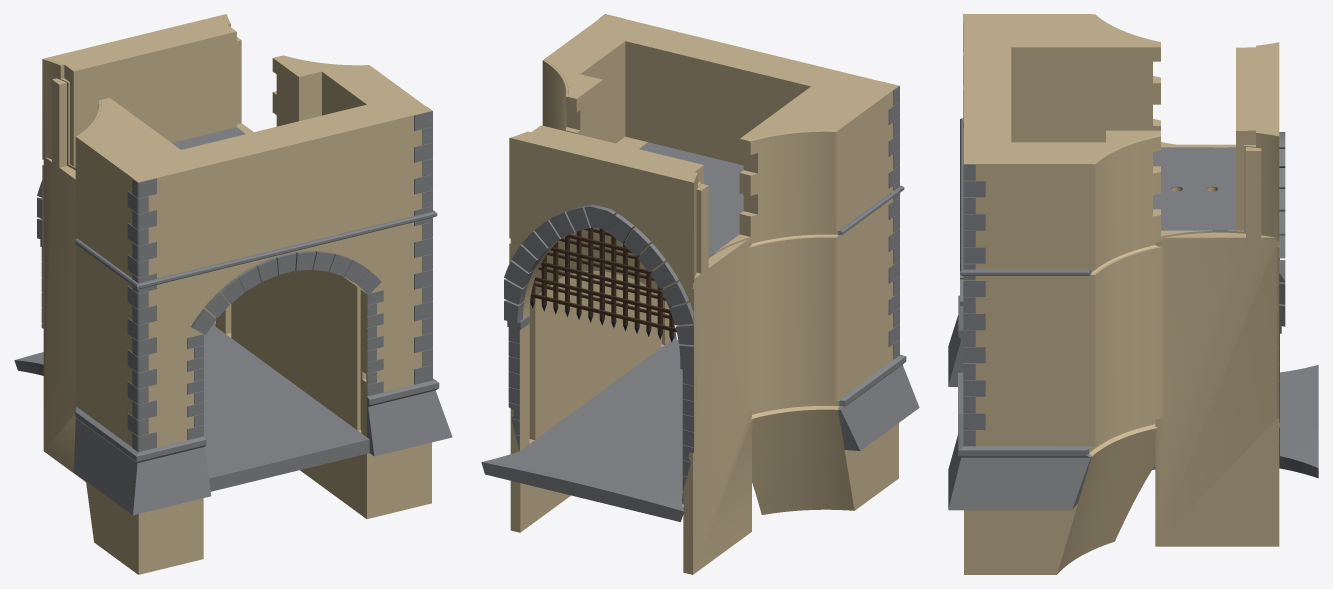
The picture shows the model from 3 angles, left to right: view 1: azimuth 30°, elevation 25°; view 2: azimuth 150°, elevation 25°; view 3: azimuth 270°, elevation 25°; orthographic projection. The views are drawn at different scales.
Visible parts, largest first — view 1: Mesh_GatePassage_ck-limestone-ashlar, Mesh_GatePassage_ck-granite-ashlar, Mesh_GatePassage_ck-rubble; view 2: Mesh_GatePassage_ck-limestone-ashlar, Mesh_GatePassage_ck-granite-ashlar, Mesh_GatePassage_ck-oak-planks, Mesh_GatePassage_ck-rubble; view 3: Mesh_GatePassage_ck-limestone-ashlar, Mesh_GatePassage_ck-granite-ashlar, Mesh_GatePassage_ck-rubble.
Boxes of the visible parts, bbox=[...] form: Mesh_GatePassage_ck-limestone-ashlar: bbox=[42, 14, 431, 574]; Mesh_GatePassage_ck-granite-ashlar: bbox=[14, 107, 439, 491]; Mesh_GatePassage_ck-rubble: bbox=[73, 390, 452, 515]; Mesh_GatePassage_ck-limestone-ashlar: bbox=[509, 14, 898, 574]; Mesh_GatePassage_ck-granite-ashlar: bbox=[481, 14, 906, 521]; Mesh_GatePassage_ck-oak-planks: bbox=[530, 228, 676, 336]; Mesh_GatePassage_ck-rubble: bbox=[673, 324, 919, 450]; Mesh_GatePassage_ck-limestone-ashlar: bbox=[964, 14, 1279, 574]; Mesh_GatePassage_ck-granite-ashlar: bbox=[958, 14, 1318, 478]; Mesh_GatePassage_ck-rubble: bbox=[948, 315, 1091, 510].
Size of the model in its own units: 9.8 by 11.5 by 9.4.
